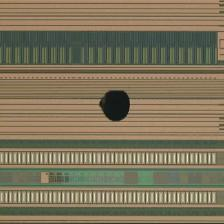PARTICLE: (98, 88, 134, 124)
